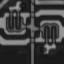dust: (32, 29, 34, 32)
